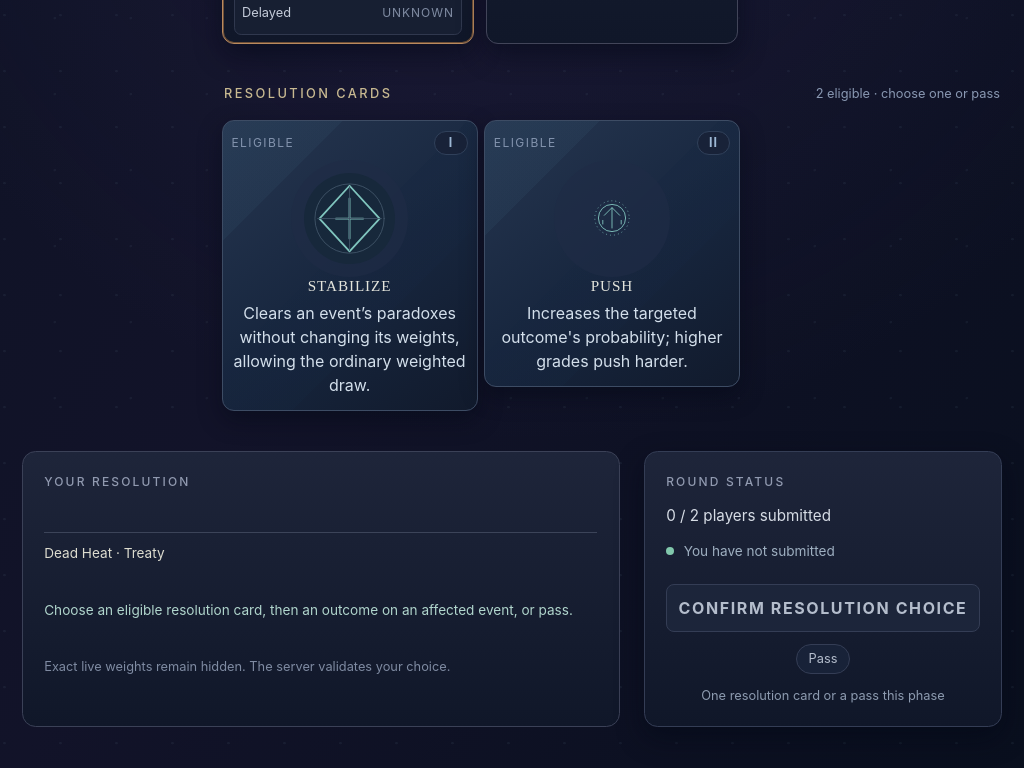
resolving a paradox on the board › passes without spending a card and closes the controls for the phase
The width and height of the screenshot is (1024, 768).
(page scrolled)
Click the button "Pass".
click(823, 659)  # box top-left (796, 644), bottom-right (850, 674)
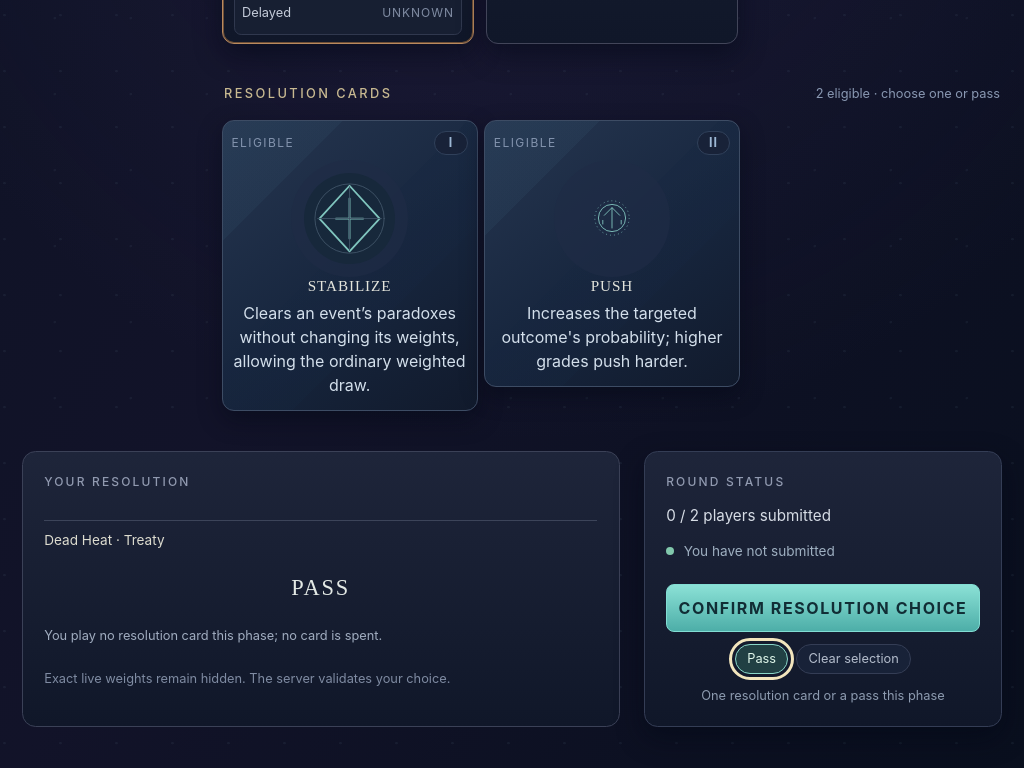
Click the button "Confirm resolution choice".
click(823, 608)  # box top-left (666, 584), bottom-right (980, 632)
(page scrolled)
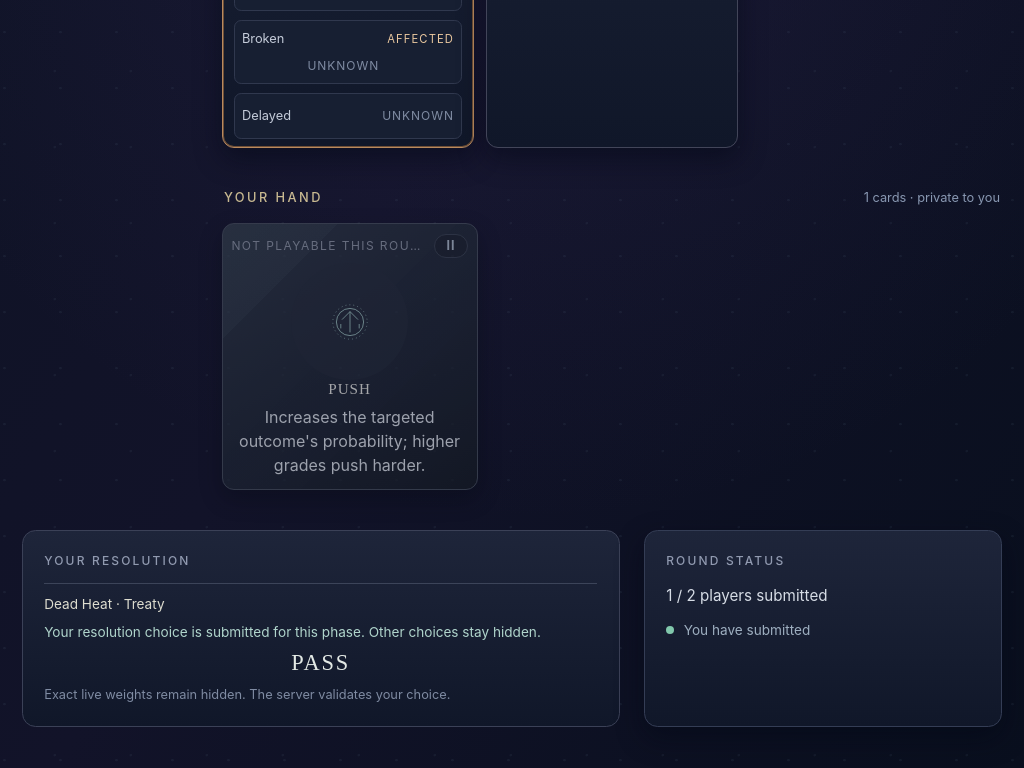
Expected: the text "Pass" is shown, top-left (291, 650), bottom-right (350, 675)
Expected: the text "Your resolution choice is submitted for this phase." is shown, top-left (44, 624), bottom-right (541, 640)
Expected: the button "Confirm resolution choice" is gone
